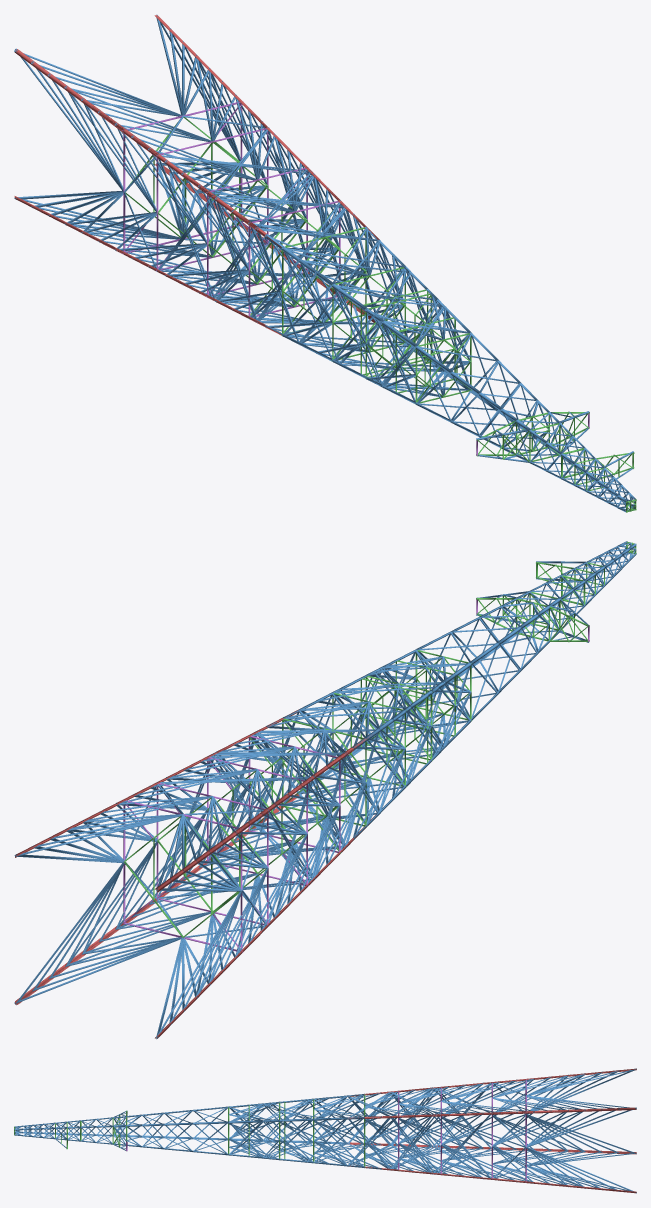
Rendered from canonical.glb.
3 views of the same model, one above another, from view 1: azimuth 30°, elevation 25°; view 2: azimuth 150°, elevation 25°; view 3: azimuth 270°, elevation 25° (orthographic). The views are drawn at different scales.
Visible parts, largest first — view 1: no part large enough to name; view 2: no part large enough to name; view 3: ct_bar_PM_3330, ct_bar_PM_3332, ct_bar_PM_3331.
Boxes of the visible parts, x1,y1,x2,y2 form: ct_bar_PM_3330: (526, 1147, 636, 1193); ct_bar_PM_3332: (527, 1107, 636, 1147); ct_bar_PM_3331: (527, 1115, 636, 1153).
Bounding box in the file's own units: 5608 × 5608 × 36655.
